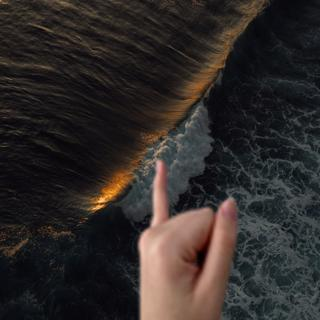Fine: (129, 159, 243, 314)
